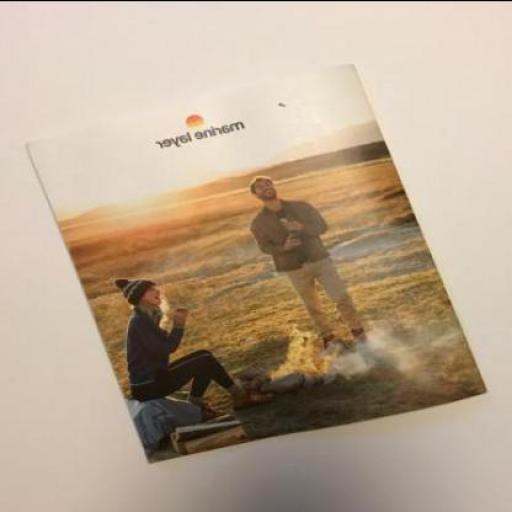paper: (24, 61, 486, 461)
